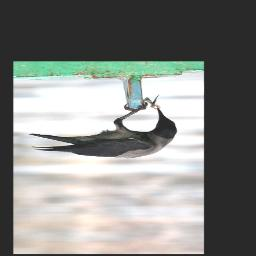Crow: (29, 102, 178, 159)
